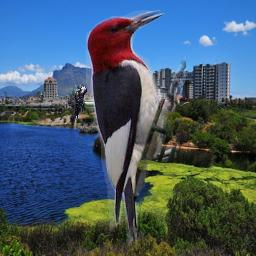Woodpecker: (86, 10, 186, 248), (67, 84, 87, 129)
